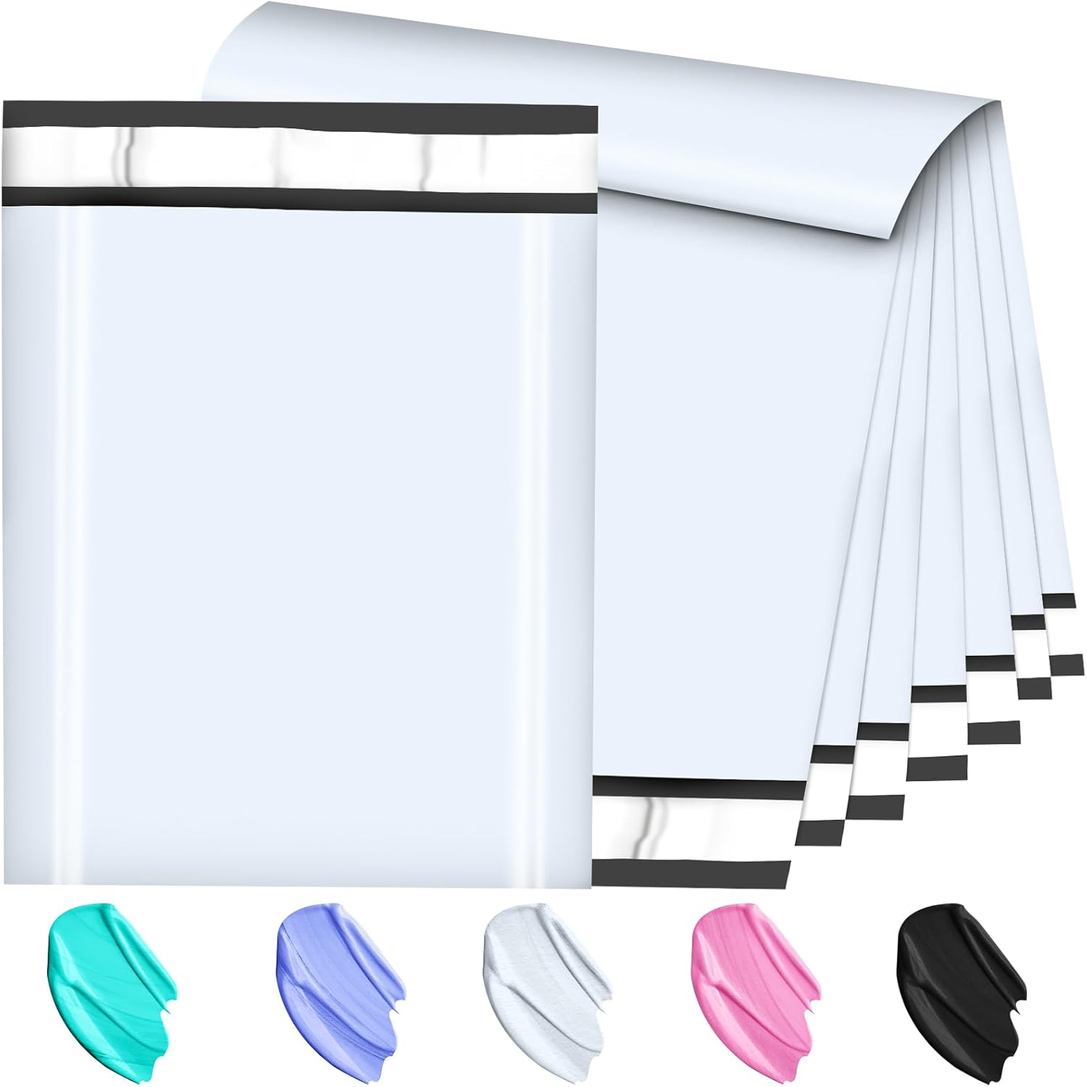塑料袋: (201, 4, 1083, 889), (0, 101, 597, 886)
